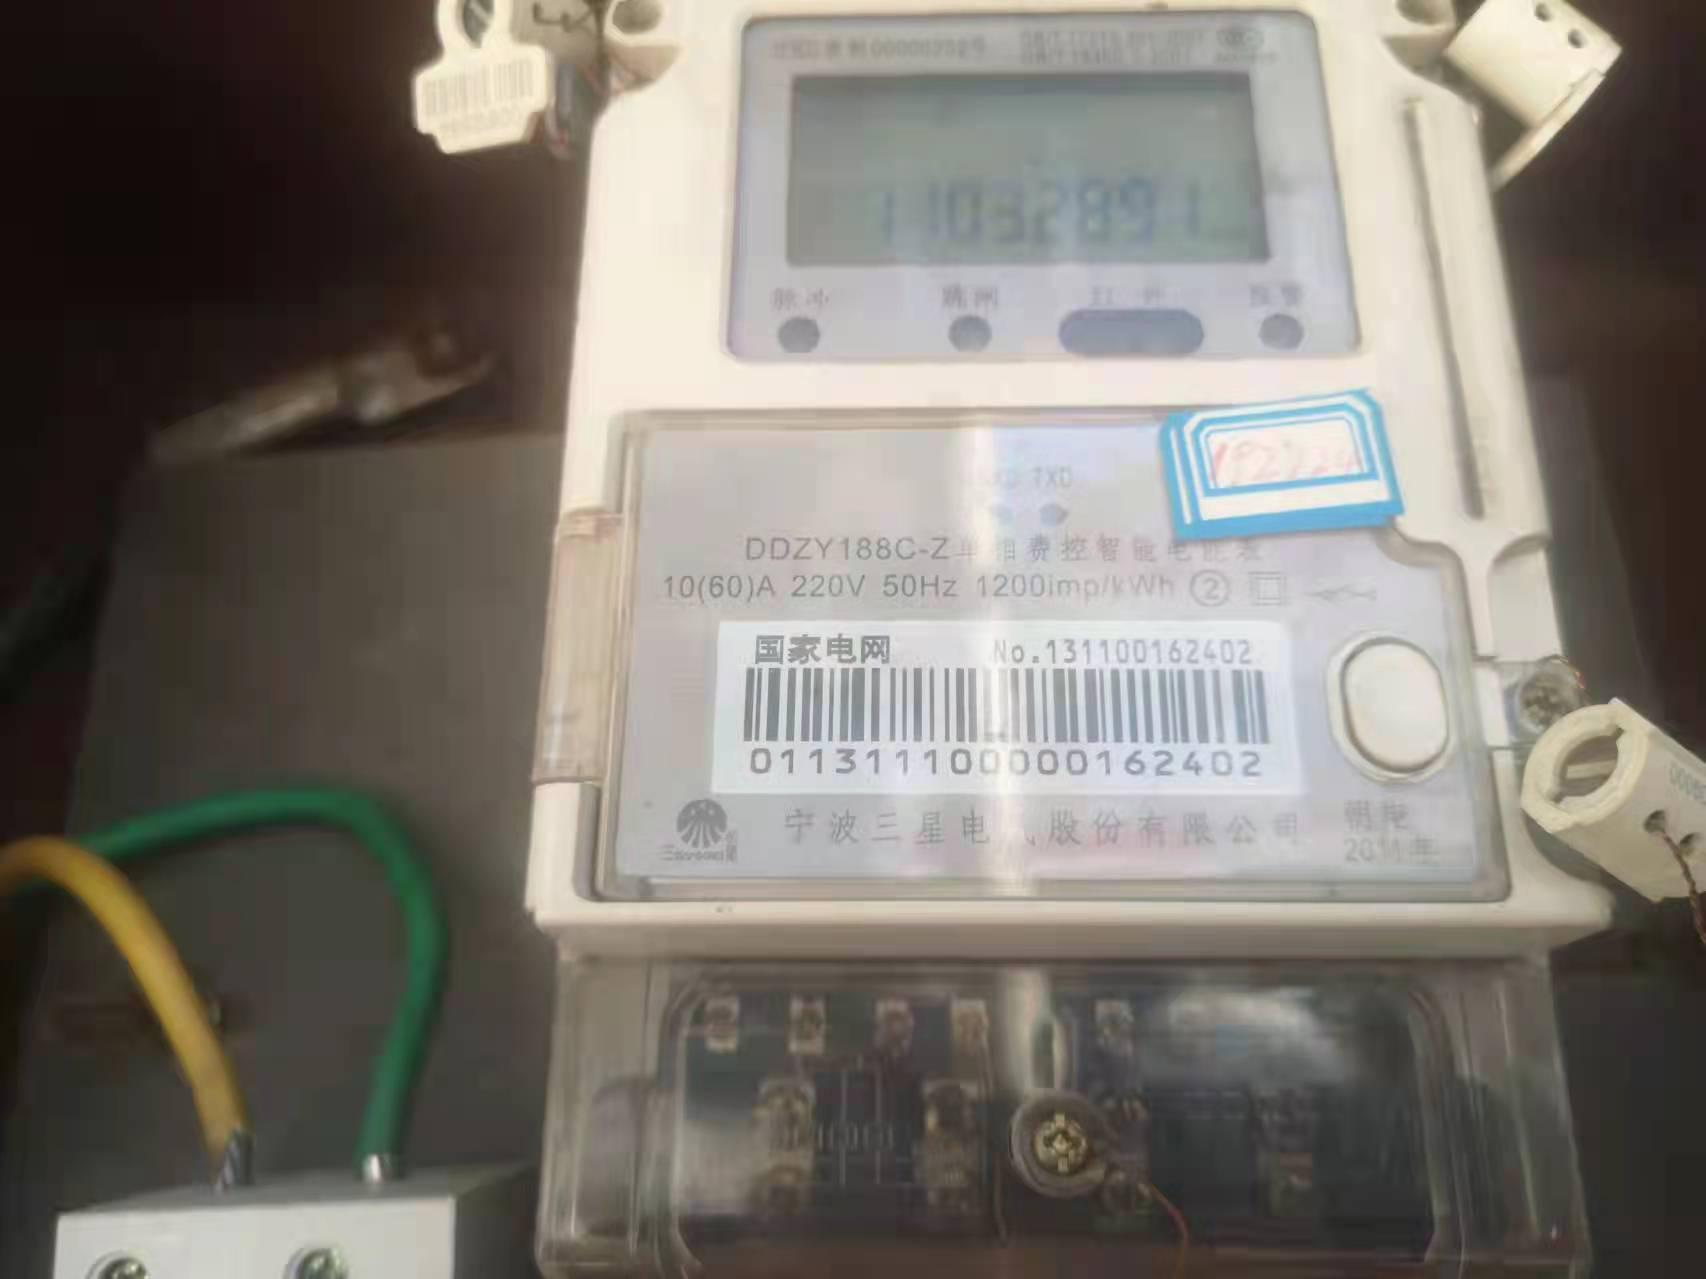digital: (527, 1, 1611, 932)
